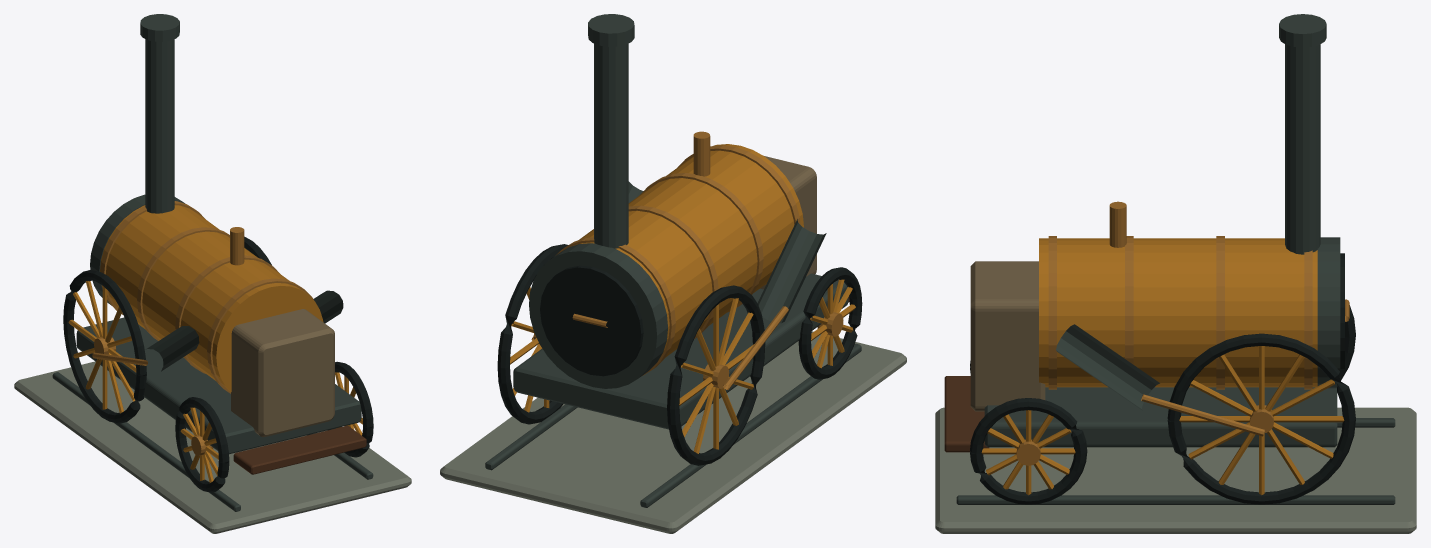
File: exhibit_rocket.obj
3 renders of one model, left to right at view 1: azimuth 30°, elevation 25°; view 2: azimuth 150°, elevation 25°; view 3: azimuth 270°, elevation 25°, orthographic. The views are drawn at different scales.
Visible parts, largest first — view 1: display_base, yellow_boiler, firebox, chassis, wheel_tyres, chimney, wheel_spokes, boiler_bands, rear_step, inclined_cylinders, short_exhibit_rails, smokebox (+3 smaller); view 2: display_base, yellow_boiler, chassis, wheel_tyres, smokebox_door, chimney, smokebox, wheel_spokes, boiler_bands, inclined_cylinders, short_exhibit_rails, firebox (+4 smaller); view 3: display_base, yellow_boiler, chassis, wheel_tyres, firebox, wheel_spokes, chimney, boiler_bands, short_exhibit_rails, inclined_cylinders, smokebox, rear_step (+5 smaller).
Boxes of the visible parts, box(x1,y1,x2,y2) form: display_base: box(14, 361, 411, 533); yellow_boiler: box(100, 205, 323, 391); firebox: box(231, 309, 334, 437); chassis: box(76, 317, 361, 454); wheel_tyres: box(63, 236, 373, 492); chimney: box(145, 39, 174, 213); wheel_spokes: box(68, 281, 362, 482); boiler_bands: box(100, 201, 313, 393); rear_step: box(233, 425, 366, 474); inclined_cylinders: box(144, 290, 343, 371); short_exhibit_rails: box(52, 372, 373, 511); smokebox: box(90, 194, 185, 305); display_base: box(440, 331, 906, 533); yellow_boiler: box(578, 144, 803, 360); chassis: box(513, 273, 848, 429); wheel_tyres: box(497, 244, 862, 465); smokebox_door: box(540, 265, 643, 376); chimney: box(594, 43, 628, 248); smokebox: box(529, 243, 667, 388); wheel_spokes: box(510, 279, 855, 453); boiler_bands: box(555, 145, 800, 375); inclined_cylinders: box(628, 181, 826, 323); short_exhibit_rails: box(485, 343, 861, 507); firebox: box(760, 155, 816, 289); display_base: box(935, 407, 1416, 533); yellow_boiler: box(1039, 238, 1317, 387); chassis: box(984, 387, 1337, 447); wheel_tyres: box(970, 305, 1355, 504); firebox: box(970, 261, 1045, 411); wheel_spokes: box(981, 346, 1344, 495); chimney: box(1285, 44, 1320, 254); boiler_bands: box(1048, 236, 1312, 389); short_exhibit_rails: box(956, 418, 1395, 504); inclined_cylinders: box(1056, 324, 1159, 410); smokebox: box(1317, 237, 1340, 388); rear_step: box(944, 376, 989, 452).
Size of the model in its own units: 1.5 by 2.68 by 2.58.
